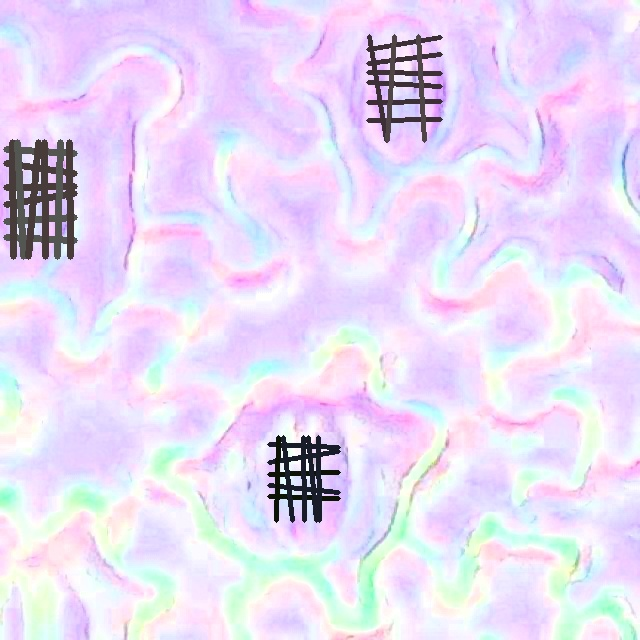open: (4, 140, 77, 258), (366, 34, 442, 142), (267, 435, 340, 522)
